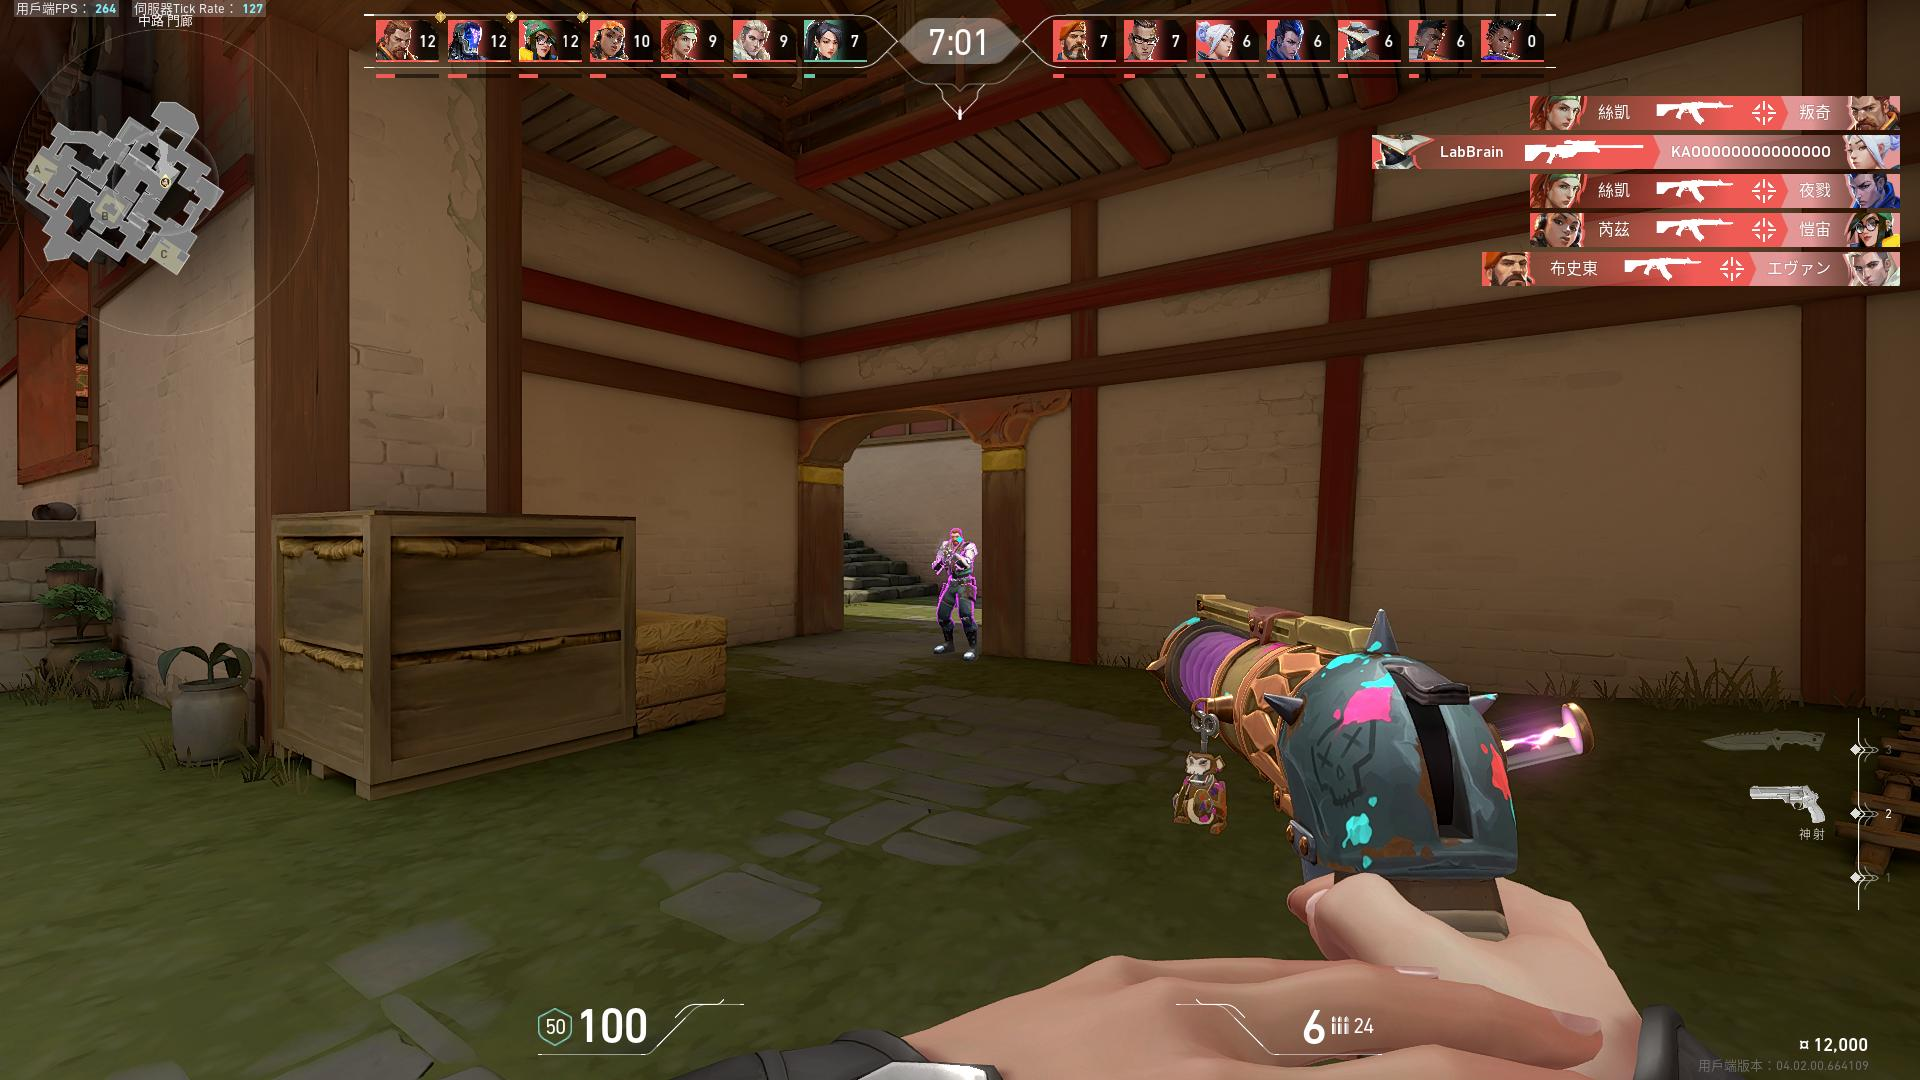enemyBody: (947, 545, 968, 583)
enemyHead: (952, 530, 960, 543)
